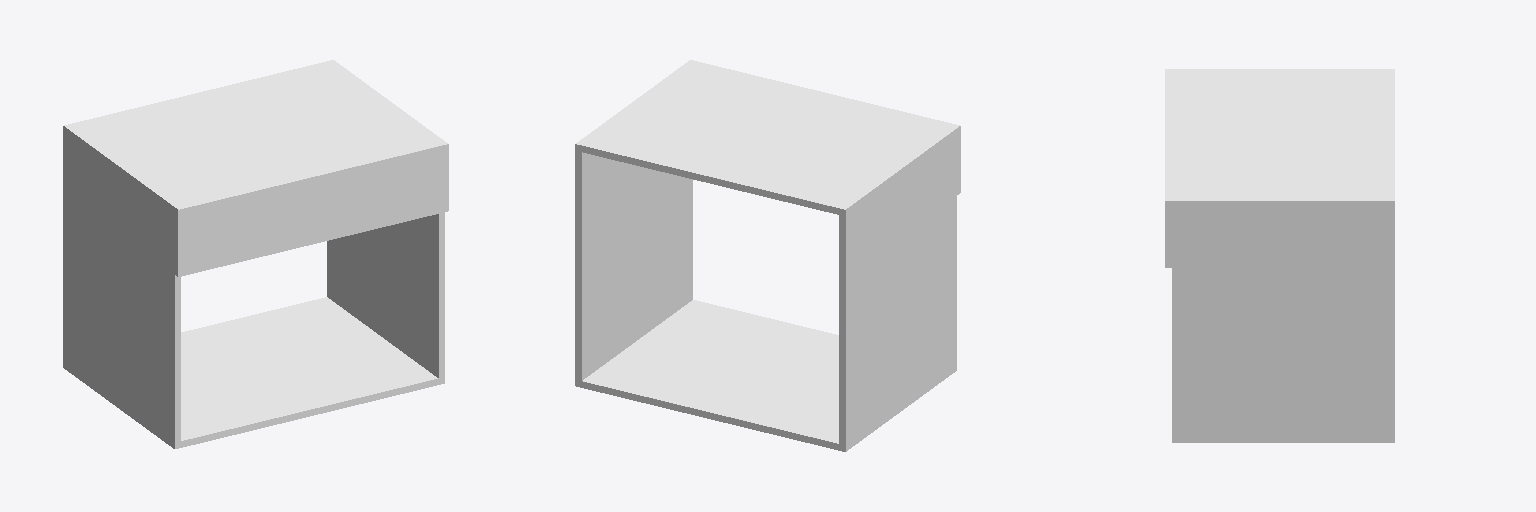
File: store_alter.obj
The picture shows the model from 3 angles: view 1: azimuth 30°, elevation 25°; view 2: azimuth 150°, elevation 25°; view 3: azimuth 270°, elevation 25°; orthographic projection.
Visible parts, largest first — view 1: store_alter; view 2: store_alter; view 3: store_alter.
Part boxes in pixels (x1,y1,x2,y2): store_alter: (63,60,448,448); store_alter: (575,60,960,451); store_alter: (1165,69,1394,442).
Size of the model in its own units: 42 by 36 by 31.